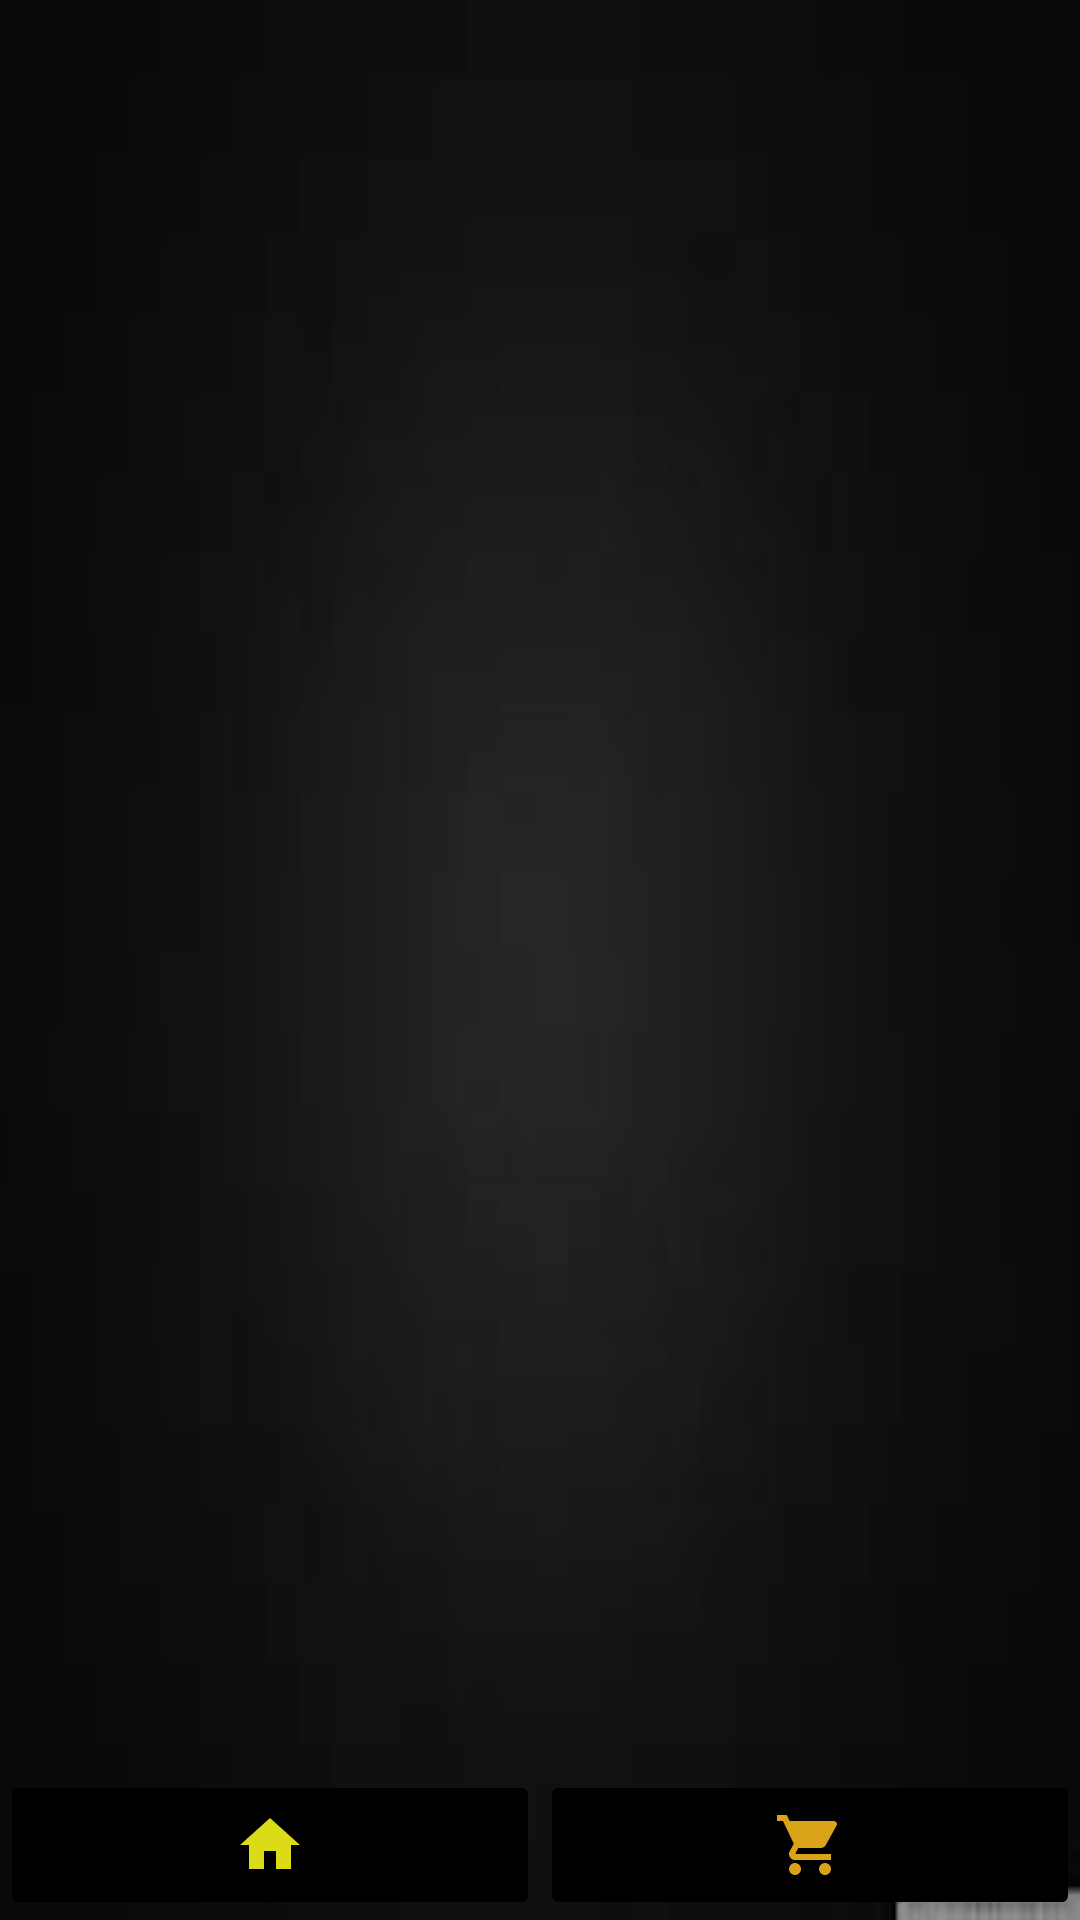

Icon click points for this 1080 × 1920 phone screenshot, format (x,y):
home: (270,1843)
